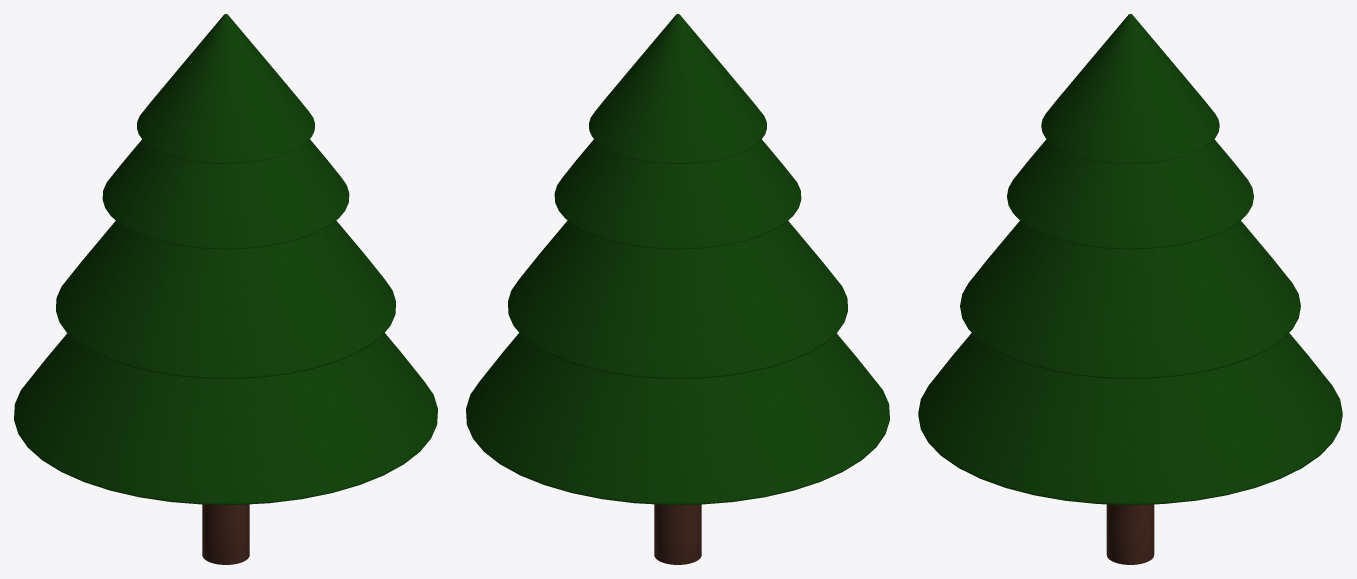
File: tree2.fbx
The picture shows the model from 3 angles, left to right: view 1: azimuth 30°, elevation 25°; view 2: azimuth 150°, elevation 25°; view 3: azimuth 270°, elevation 25°; orthographic projection.
Visible parts, largest first — view 1: pCylinder1; view 2: pCylinder1; view 3: pCylinder1.
Boxes of the visible parts, x1,y1,x2,y2 form: pCylinder1: [14, 14, 437, 564]; pCylinder1: [466, 14, 889, 564]; pCylinder1: [918, 14, 1342, 564].
Size of the model in its own units: 1.88 by 2.64 by 1.88.
